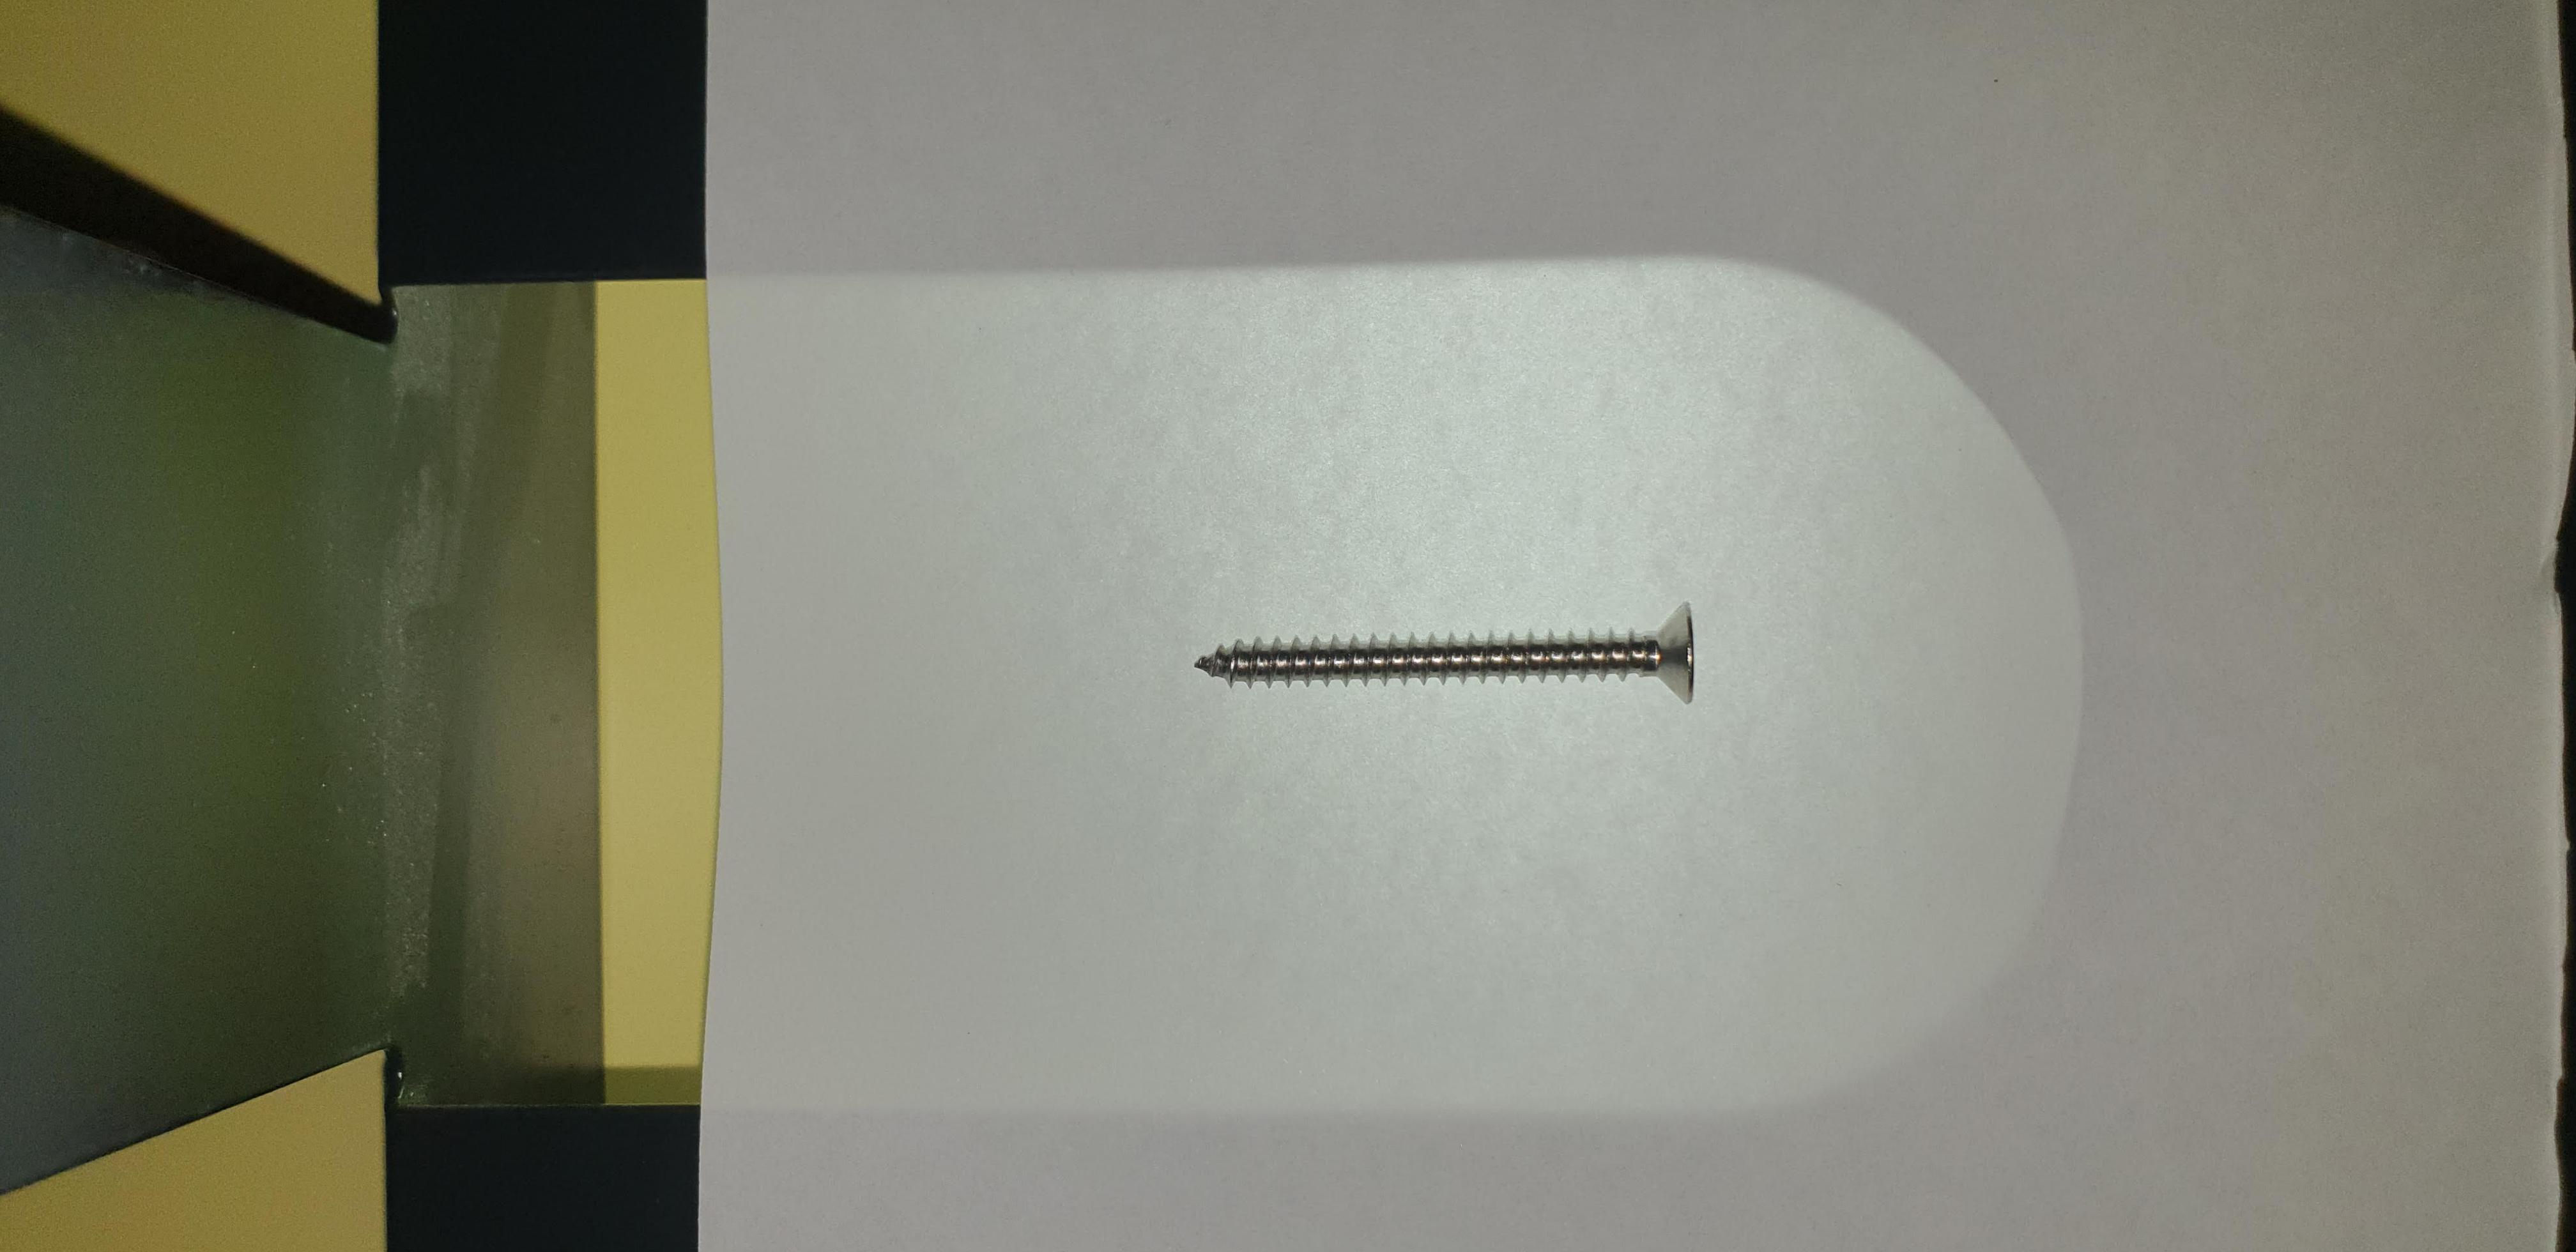fastener: (1147, 549, 1774, 774)
